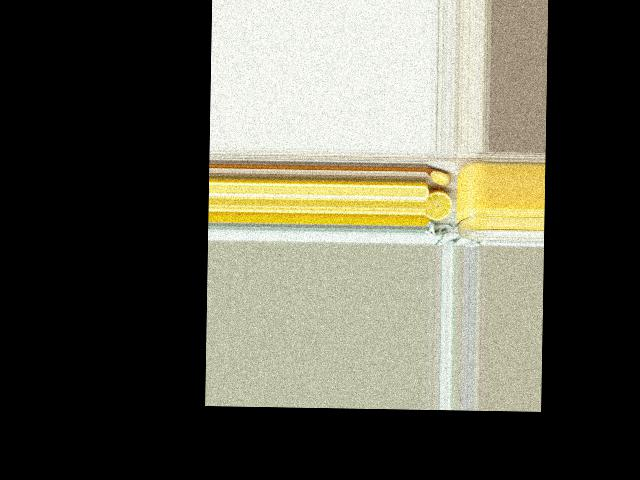lemon: (426, 190, 452, 221)
